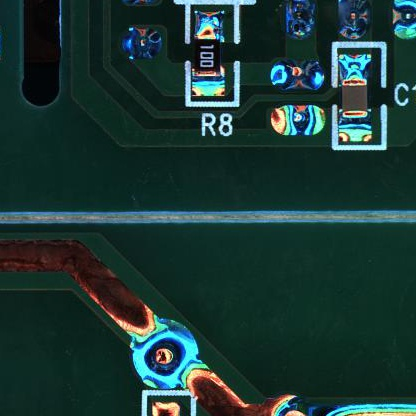spot: (130, 317, 201, 390), (268, 102, 330, 139), (266, 58, 328, 94), (120, 23, 167, 62), (335, 1, 374, 39), (282, 1, 317, 42)
